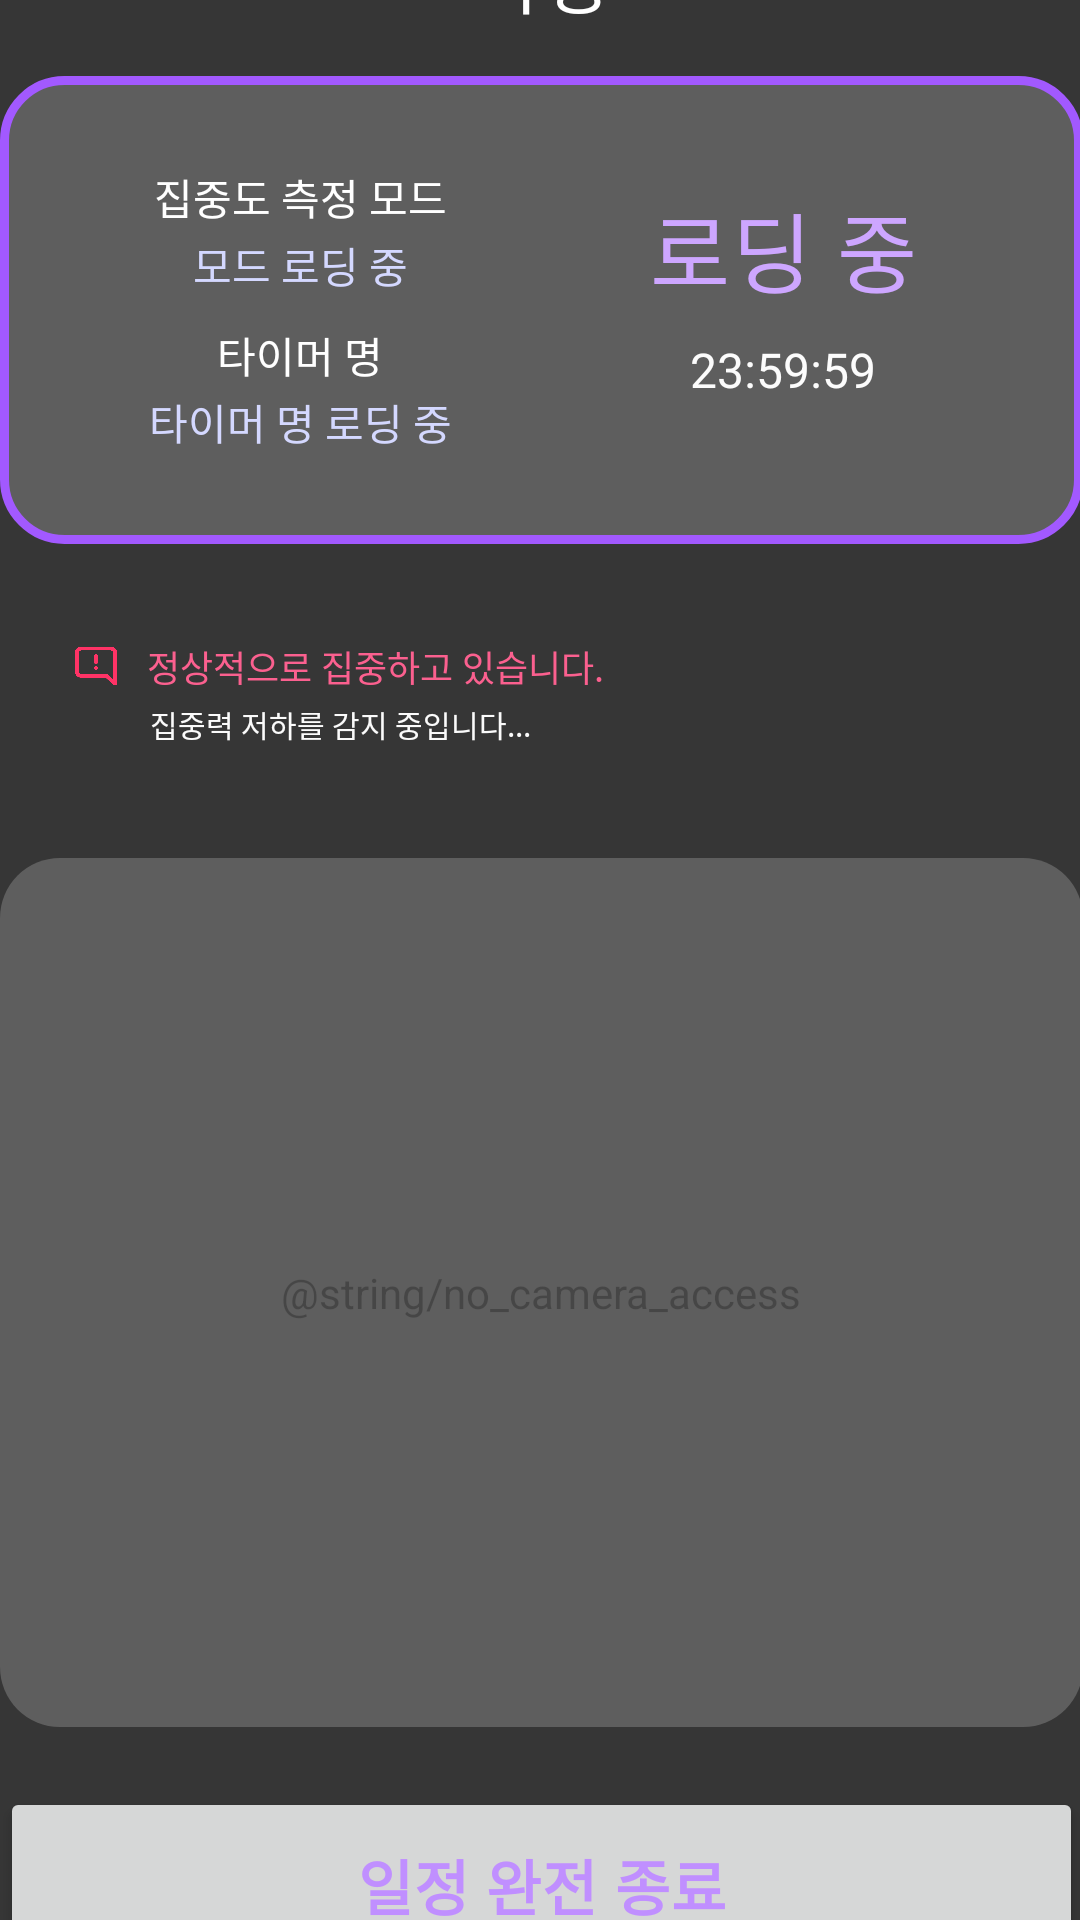

Icon bounding boxes for this 1080 x 1920 phone screenshot, format (x1, y1, x2, y2):
detection waring: (75, 647, 117, 685)
